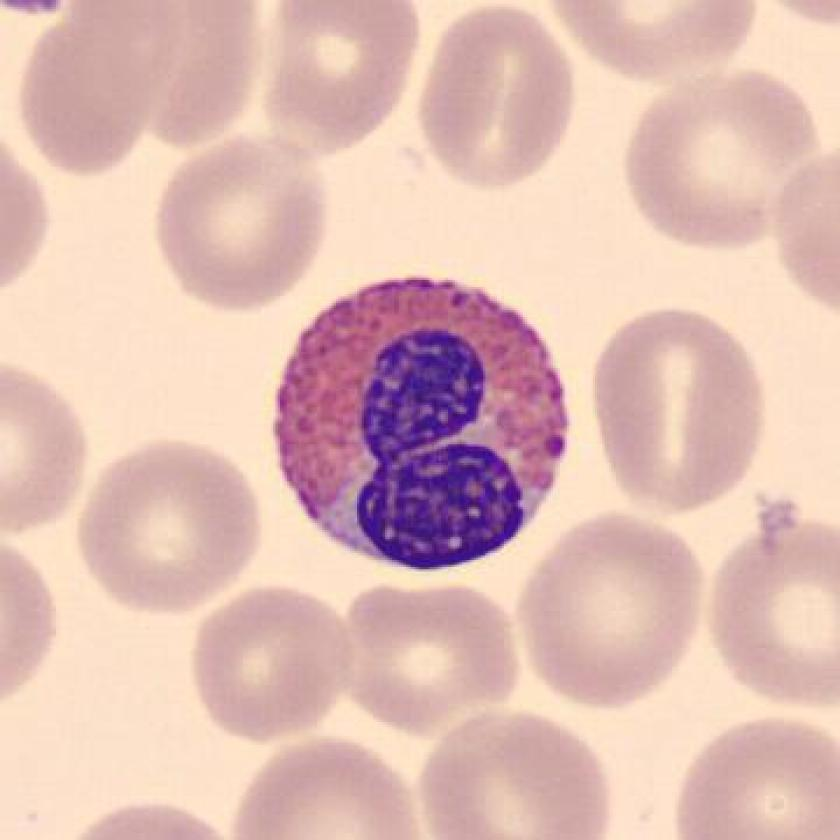eosinophil: (253, 256, 591, 587)
